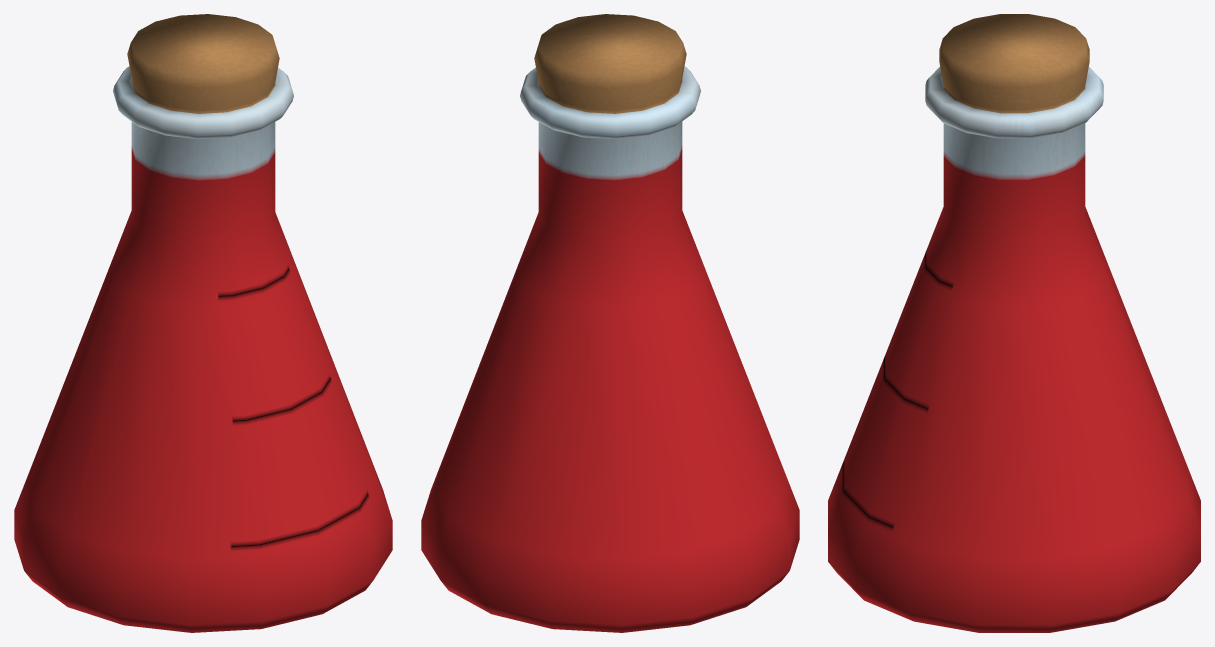
File: Item_LabFlask.fbx
The picture shows the model from 3 angles, left to right: view 1: azimuth 30°, elevation 25°; view 2: azimuth 150°, elevation 25°; view 3: azimuth 270°, elevation 25°; orthographic projection.
Parts seen in each view (by area): view 1: Flask; view 2: Flask; view 3: Flask.
Boxes of the visible parts, bbox=[...] form: Flask: bbox=[14, 14, 392, 632]; Flask: bbox=[421, 14, 799, 632]; Flask: bbox=[828, 14, 1200, 632].
Size of the model in its own units: 0.1508 by 0.2292 by 0.1508.
